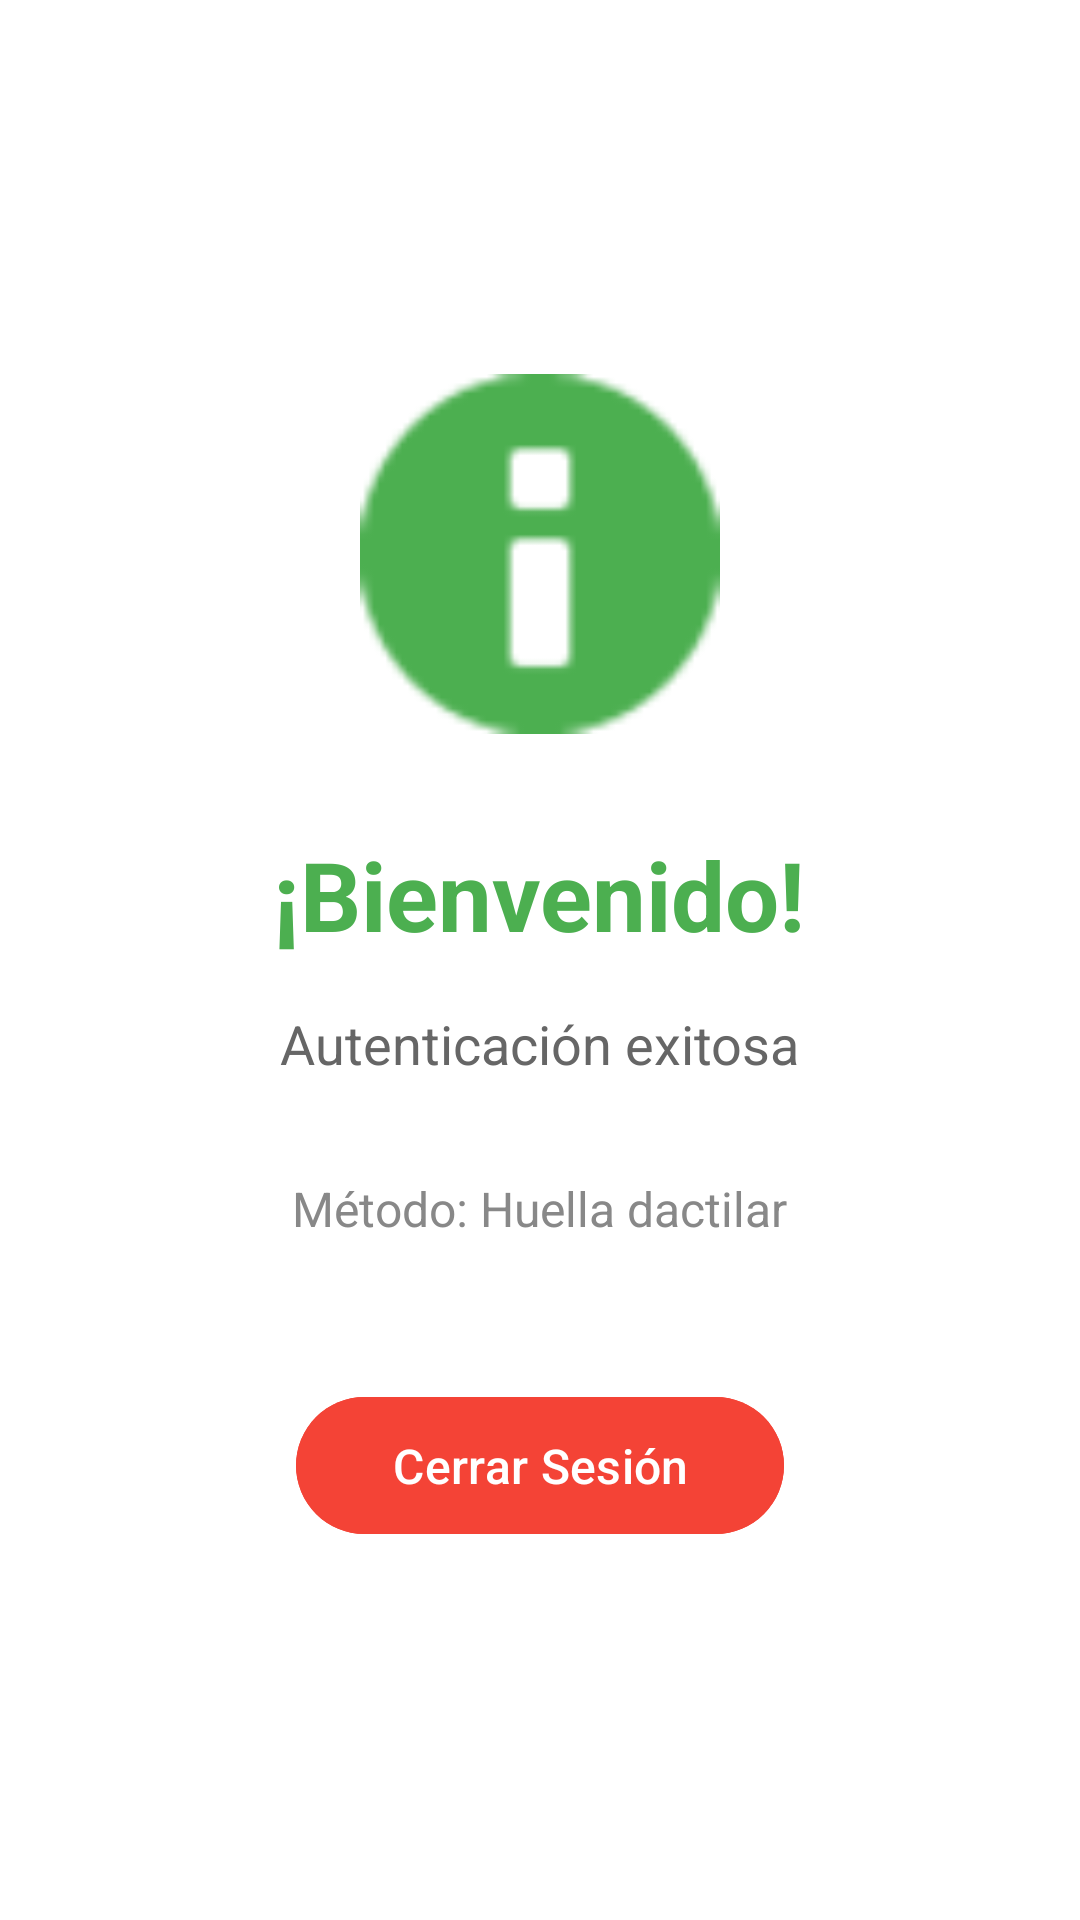

Where to tap for icons on this 1080 x 1920 app screen, as [x,y]:
info: [540,554]
